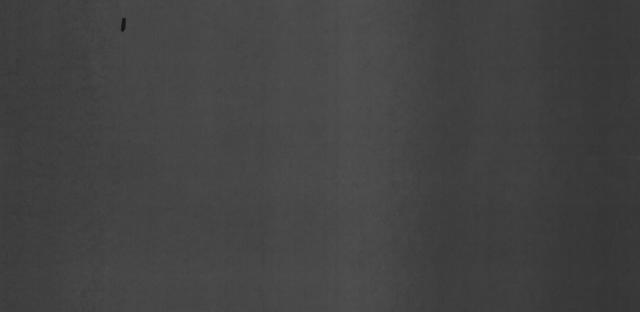inclusion: (116, 10, 130, 43)
